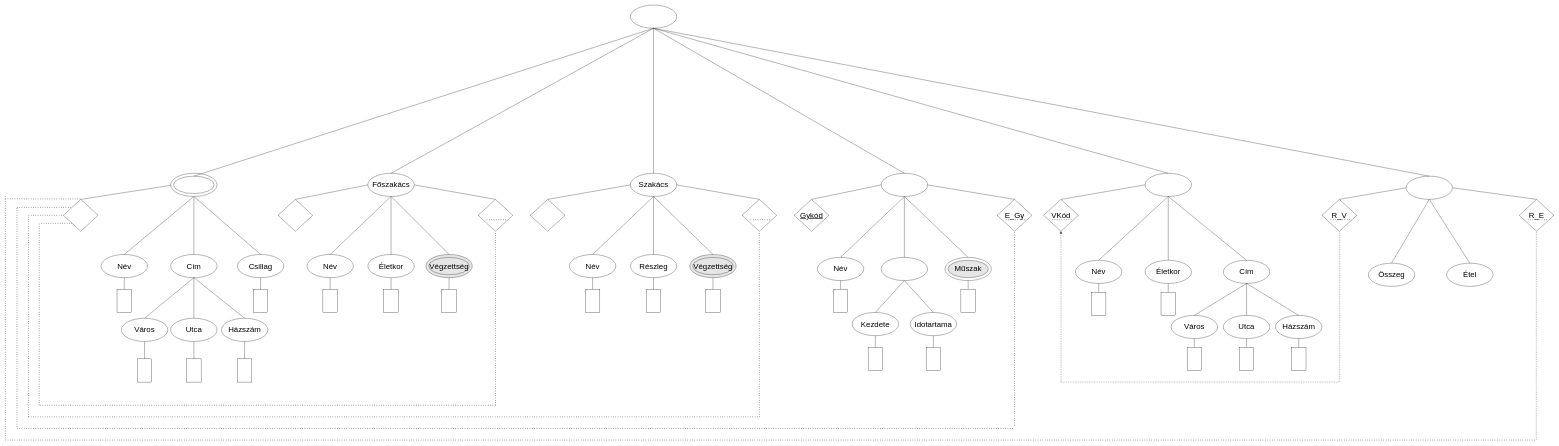
Image size: 1559x446. Some labels were removed from this diagram. The shapes that lost their labels are listed below. From the top down, each one's box as (x1, y1, x2, y2) in pixels, then its label:
(630, 5, 677, 28): Vendéglátás
(170, 173, 217, 196): Étterem
(881, 173, 928, 196): Gyakornok
(1145, 173, 1191, 196): Vendég
(1406, 176, 1452, 199): Rendelés
(63, 199, 98, 231): Ekód
(278, 199, 313, 231): Fkód
(478, 199, 513, 231): E_F
(530, 199, 565, 231): Szkód
(742, 199, 777, 231): E_SZ
(881, 257, 928, 281): Gyakorlat
